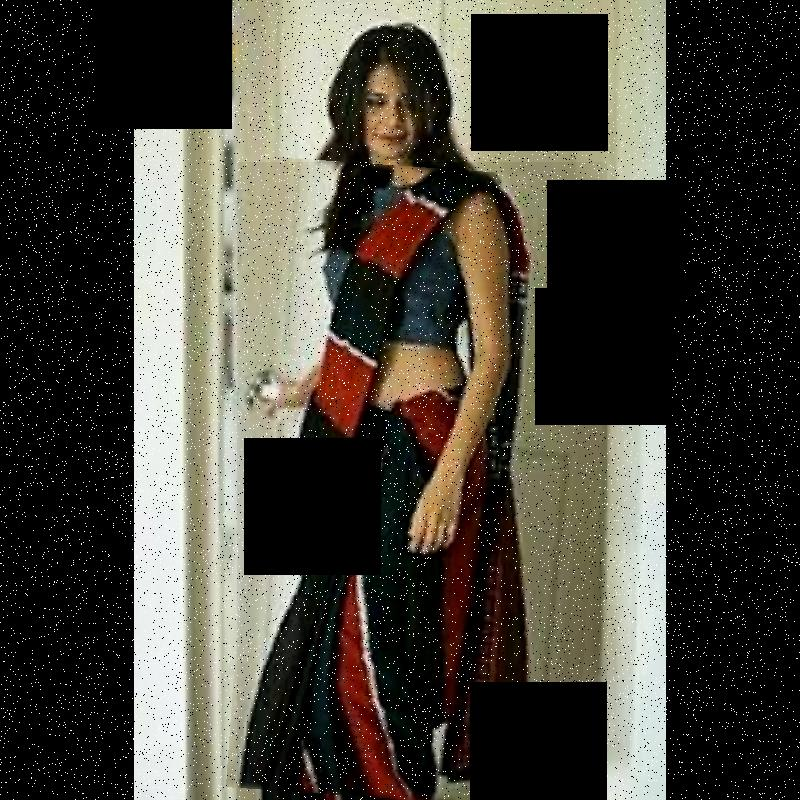Saree: (237, 162, 607, 800)
